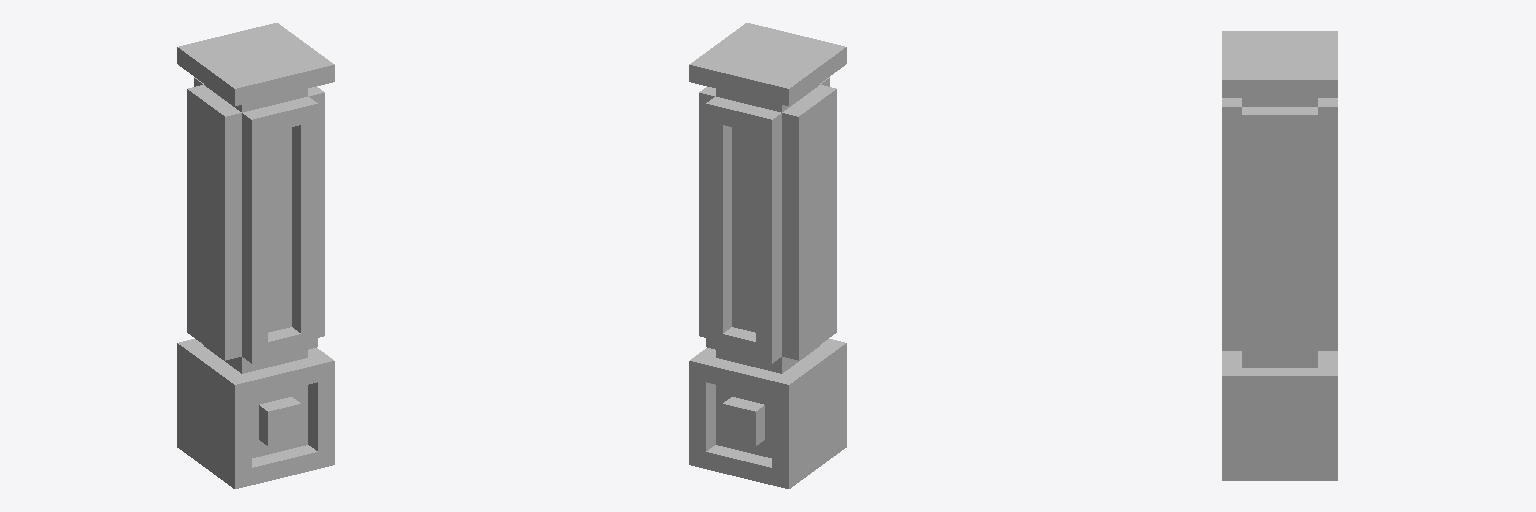
File: column.obj
3 renders of one model, left to right at view 1: azimuth 30°, elevation 25°; view 2: azimuth 150°, elevation 25°; view 3: azimuth 270°, elevation 25°, orthographic.
Parts seen in each view (by area): view 1: object 1; view 2: object 1; view 3: object 1.
Part boxes in pixels (left/top/right/bottom): object 1: left=177, top=23, right=334, bottom=488; object 1: left=689, top=23, right=846, bottom=488; object 1: left=1222, top=31, right=1337, bottom=480.
Bounding box in the file's own units: 0.6 × 2.3 × 0.6.